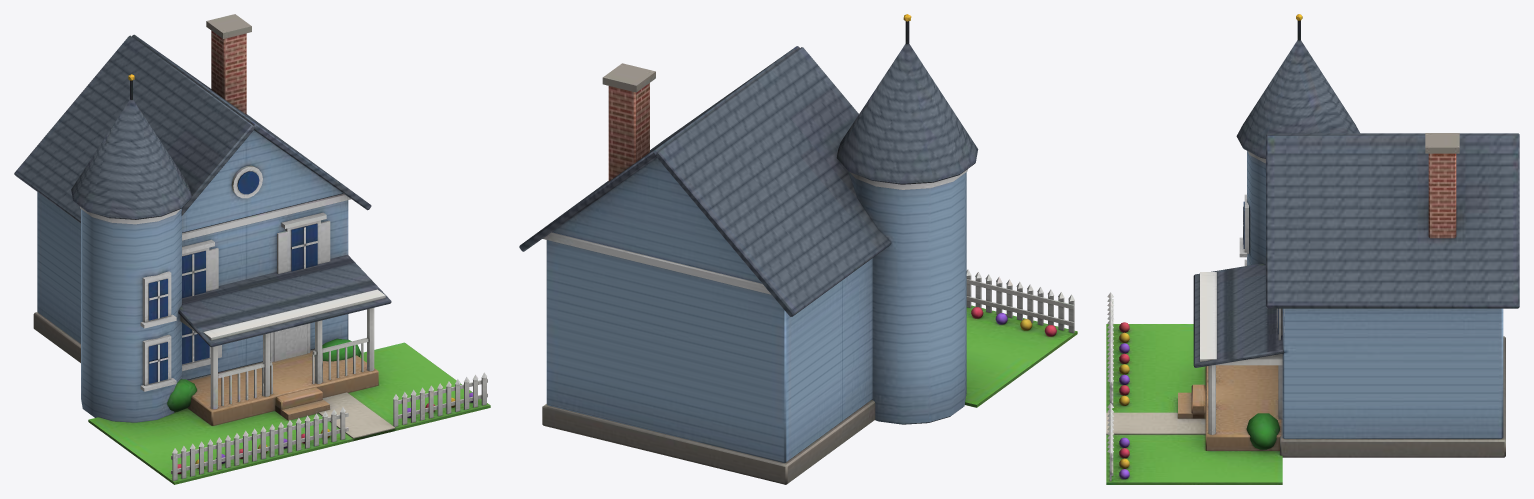
File: vict_azul.glb
The picture shows the model from 3 angles, left to right: view 1: azimuth 30°, elevation 25°; view 2: azimuth 150°, elevation 25°; view 3: azimuth 270°, elevation 25°; orthographic projection. The views are drawn at different scales.
Visible parts, largest first — view 1: vict_azul; view 2: vict_azul; view 3: vict_azul.
Part boxes in pixels (x1,y1,x2,y2): vict_azul: (14,14,490,484); vict_azul: (519,14,1077,484); vict_azul: (1106,14,1519,484).
Bounding box in the file's own units: 6.81 × 6.79 × 7.5.
1 material, 1 textured.
